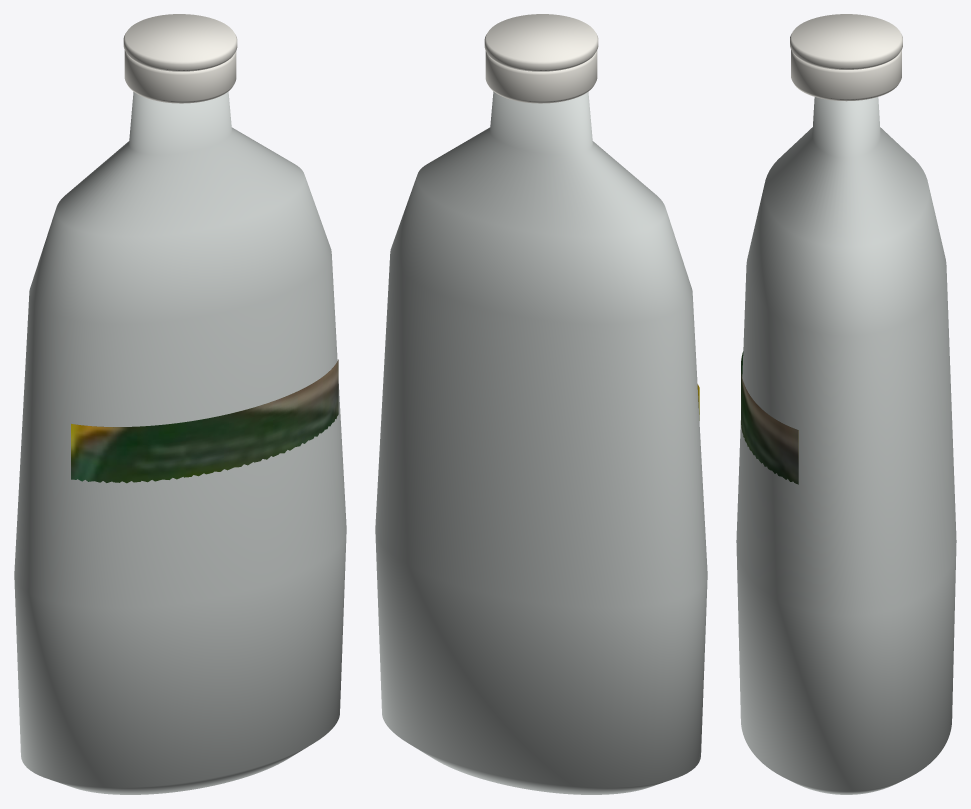
File: counter_items__green_soap.glb
3 views of the same model, side by side, from view 1: azimuth 30°, elevation 25°; view 2: azimuth 150°, elevation 25°; view 3: azimuth 270°, elevation 25° (orthographic).
Parts seen in each view (by area): view 1: body, flip_lid, cap; view 2: body, flip_lid, cap; view 3: body, flip_lid, cap.
Boxes of the visible parts, <box> form: body: <box>14,91,346,794</box>; flip_lid: <box>123,14,237,71</box>; cap: <box>124,50,236,103</box>; body: <box>375,91,707,794</box>; flip_lid: <box>484,14,598,71</box>; cap: <box>485,50,597,103</box>; body: <box>736,97,956,794</box>; flip_lid: <box>790,14,902,69</box>; cap: <box>791,50,901,101</box>.
Size of the model in its own units: 0.1113 by 0.2428 by 0.0691.
4 materials, 1 textured.
